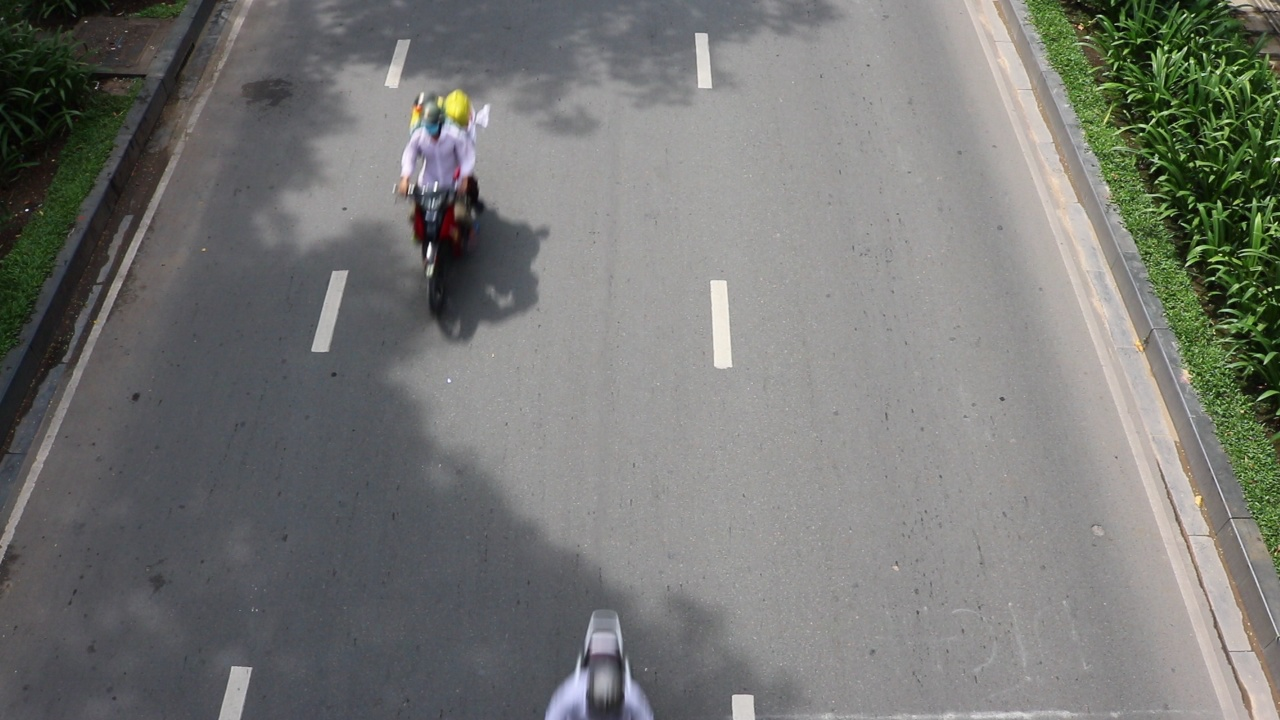motorcycle: (399, 182, 481, 317)
